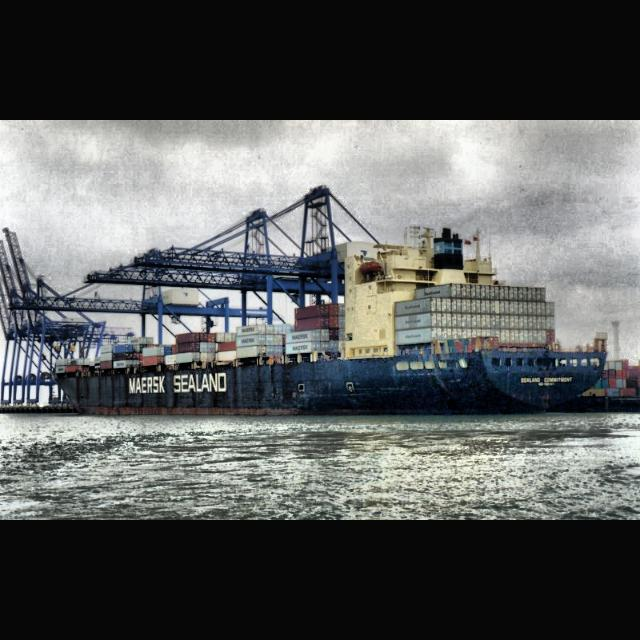container: (51, 228, 609, 420)
